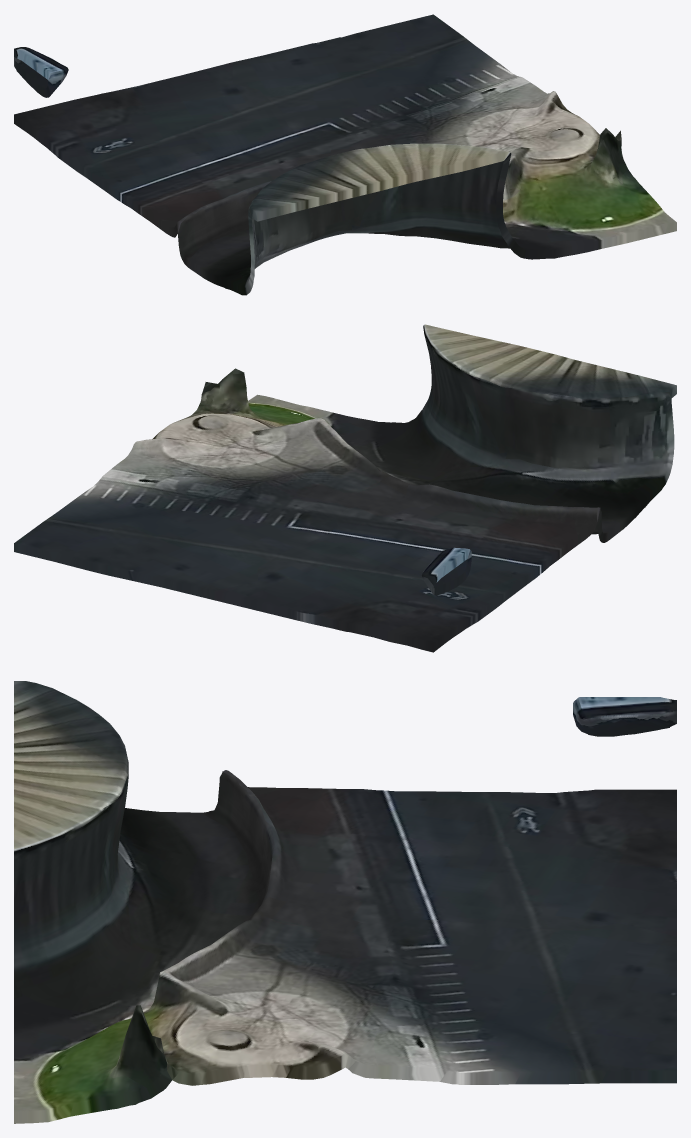
Rendered from z20-167770-405238-h0-yup-uvflip-v3-world.glb.
3 renders of one model, top to bottom at view 1: azimuth 30°, elevation 25°; view 2: azimuth 150°, elevation 25°; view 3: azimuth 270°, elevation 25°, orthographic. The views are drawn at different scales.
Bounding box in the file's own units: 30.16 × 8.36 × 30.32.
Materials: 1 (1 with a texture image).
